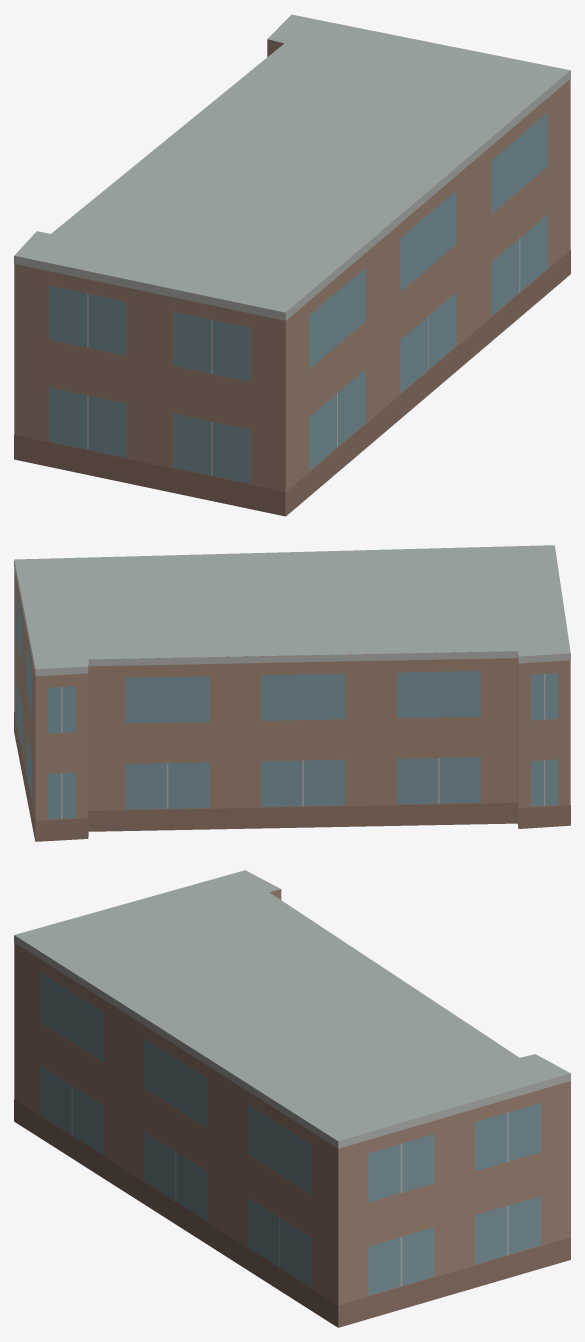
Rendered from survey-upis-32682980.glb.
The picture shows the model from 3 angles, top to bottom: view 1: azimuth 30°, elevation 25°; view 2: azimuth 150°, elevation 25°; view 3: azimuth 270°, elevation 25°; orthographic projection. The views are drawn at different scales.
Parts seen in each view (by area): view 1: survey-upis-32682980.tmp; view 2: survey-upis-32682980.tmp; view 3: survey-upis-32682980.tmp.
Boxes of the visible parts, x1=… form: survey-upis-32682980.tmp: x1=14, y1=14, x2=570, y2=516; survey-upis-32682980.tmp: x1=14, y1=545, x2=570, y2=841; survey-upis-32682980.tmp: x1=14, y1=870, x2=570, y2=1327.
Bounding box in the file's own units: 19.04 × 6.1 × 16.52.
